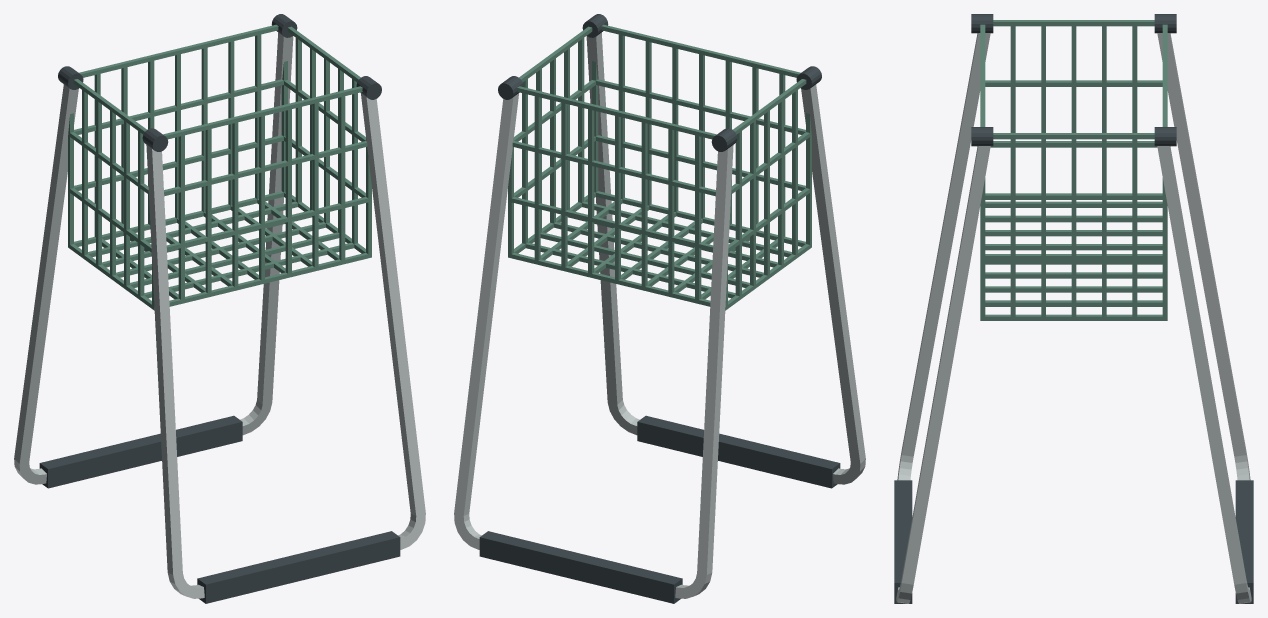
3 views of the same model, side by side, from view 1: azimuth 30°, elevation 25°; view 2: azimuth 150°, elevation 25°; view 3: azimuth 270°, elevation 25° (orthographic). The views are drawn at different scales.
Parts seen in each view (by area): view 1: WholeOpenFiveSidedWireLatticeBasket, WholeFrontReturnedUStandFrame, WholeRearReturnedUStandFrame, WholeFrontLongGroundSleeve, WholeRearLongGroundSleeve; view 2: WholeOpenFiveSidedWireLatticeBasket, WholeRearReturnedUStandFrame, WholeFrontReturnedUStandFrame, WholeRearLongGroundSleeve, WholeFrontLongGroundSleeve; view 3: WholeOpenFiveSidedWireLatticeBasket, WholeFrontReturnedUStandFrame, WholeRearReturnedUStandFrame, WholeFrontLongGroundSleeve, WholeRearLongGroundSleeve.
Part boxes in pixels (box(x1,y1,x2,y2)): WholeOpenFiveSidedWireLatticeBasket: box(68, 24, 371, 310); WholeFrontReturnedUStandFrame: box(146, 93, 425, 598); WholeRearReturnedUStandFrame: box(14, 32, 293, 484); WholeFrontLongGroundSleeve: box(197, 531, 400, 603); WholeRearLongGroundSleeve: box(39, 415, 242, 488); WholeOpenFiveSidedWireLatticeBasket: box(508, 24, 811, 310); WholeRearReturnedUStandFrame: box(454, 93, 733, 598); WholeFrontReturnedUStandFrame: box(586, 32, 865, 484); WholeRearLongGroundSleeve: box(479, 531, 682, 603); WholeFrontLongGroundSleeve: box(637, 415, 840, 488); WholeOpenFiveSidedWireLatticeBasket: box(980, 20, 1167, 320); WholeFrontReturnedUStandFrame: box(896, 33, 990, 603); WholeRearReturnedUStandFrame: box(1157, 33, 1251, 603); WholeFrontLongGroundSleeve: box(894, 480, 912, 603); WholeRearLongGroundSleeve: box(1235, 480, 1253, 603).
Size of the model in its own units: 0.52 by 0.874 by 0.5919.
